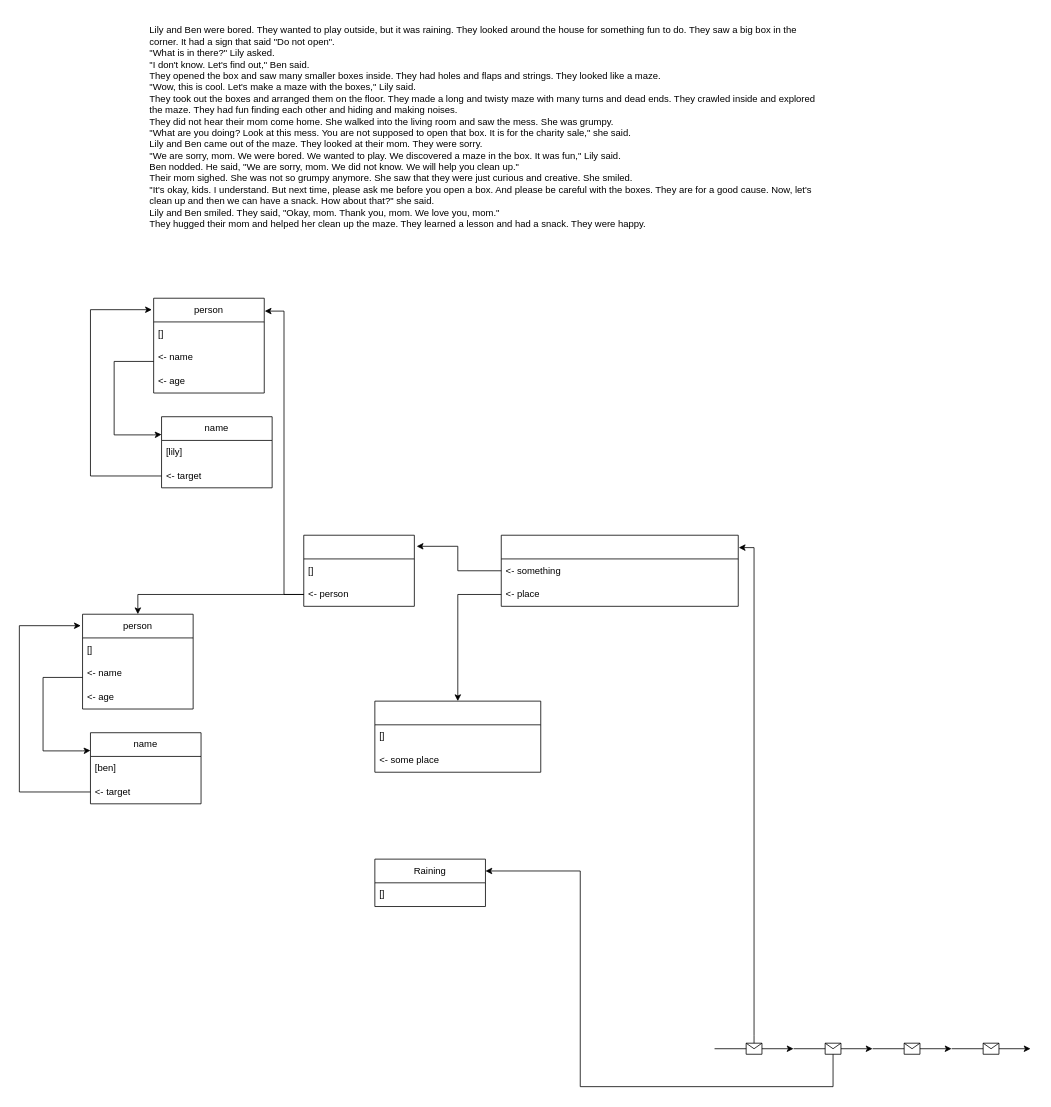
This 1051x1107 diagram has some shape labels left out. Each missing label, with the box of its shape:
group of people: (303, 534, 414, 606)
out side of some place: (374, 700, 541, 772)
something want to play in place: (500, 534, 738, 606)
